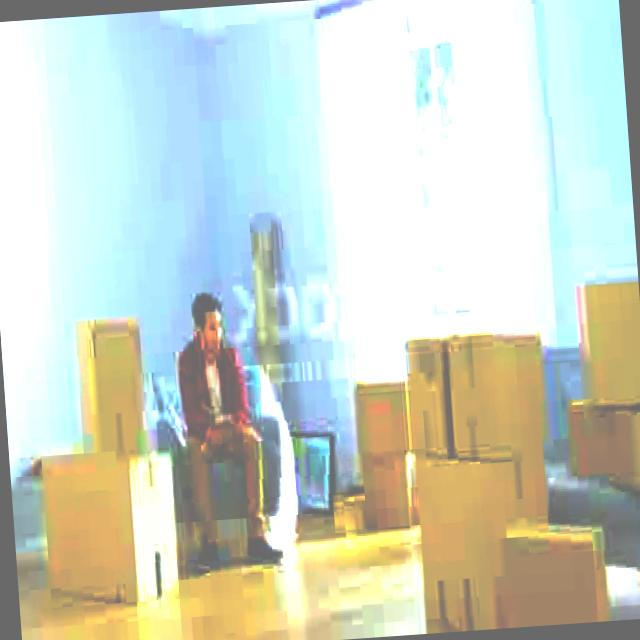Box: (41, 446, 180, 610), (408, 455, 518, 627), (452, 327, 550, 456), (504, 532, 604, 628), (79, 331, 145, 465), (575, 282, 640, 412), (561, 405, 640, 488), (402, 334, 452, 459)
